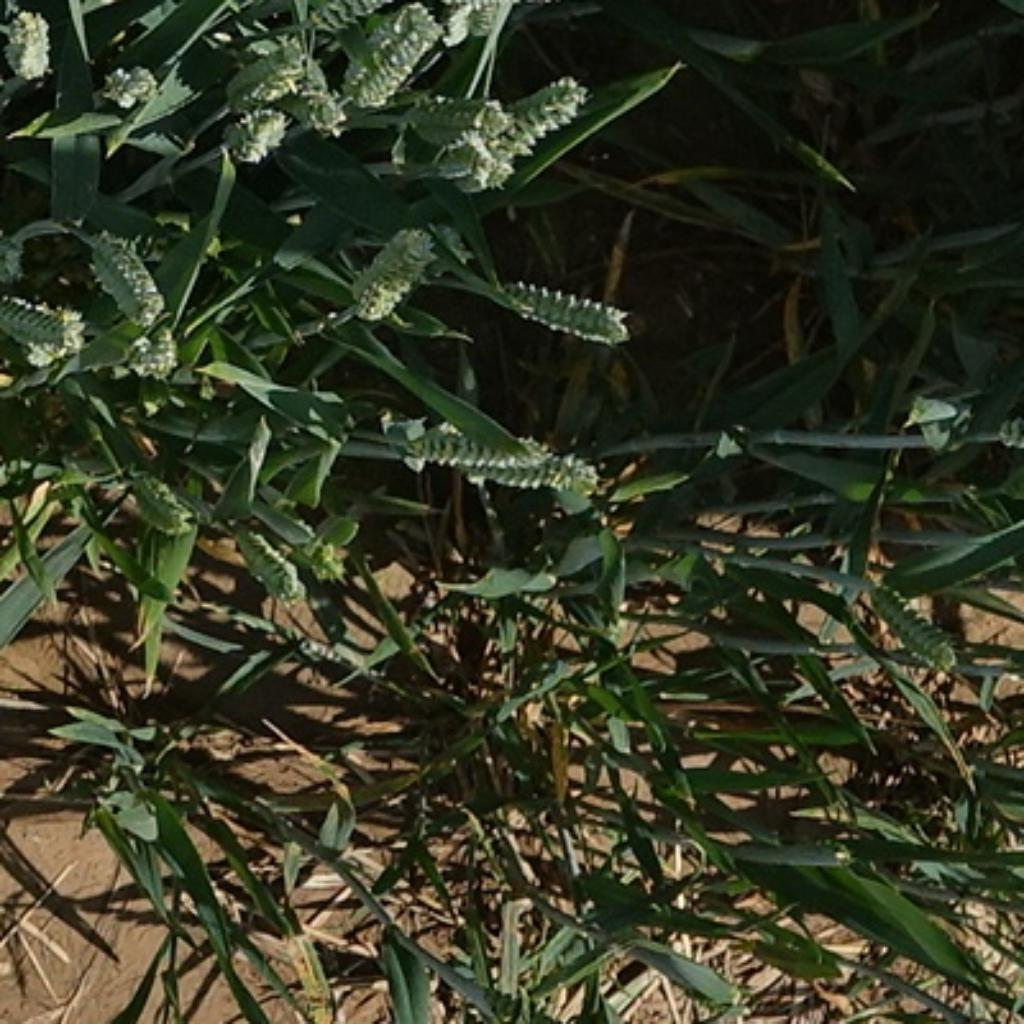0-0: (445, 58, 609, 189), (379, 407, 570, 483), (337, 215, 448, 325), (486, 268, 640, 345), (340, 0, 448, 107), (217, 519, 340, 609), (857, 573, 967, 673), (468, 445, 606, 509), (79, 227, 168, 322), (233, 36, 327, 121), (391, 84, 512, 148), (0, 289, 89, 367), (432, 128, 522, 204), (117, 460, 194, 537), (280, 0, 393, 47), (274, 79, 355, 144), (89, 53, 174, 112), (217, 107, 296, 168), (0, 0, 58, 81), (120, 317, 189, 381), (449, 0, 526, 49)
